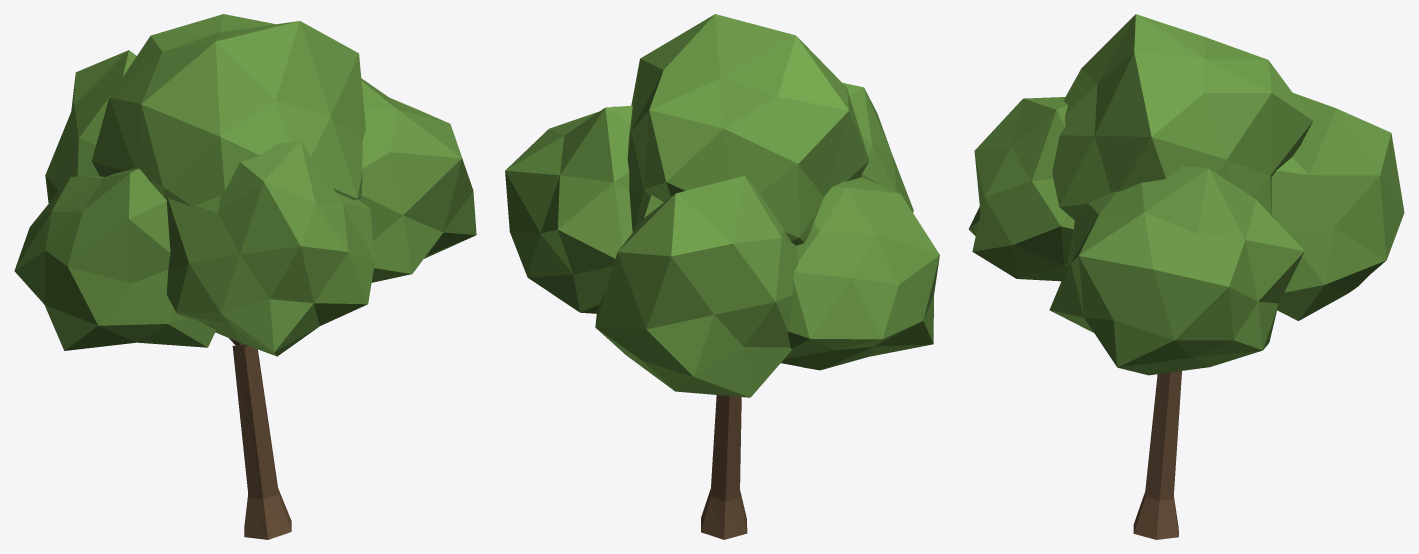
The model's file is broadleaf_b.glb.
3 views of the same model, side by side, from view 1: azimuth 30°, elevation 25°; view 2: azimuth 150°, elevation 25°; view 3: azimuth 270°, elevation 25° (orthographic). The views are drawn at different scales.
Visible parts, largest first — view 1: broadleaf; view 2: broadleaf; view 3: broadleaf.
Boxes of the visible parts, x1=… form: broadleaf: x1=14, y1=14, x2=476, y2=539; broadleaf: x1=505, y1=14, x2=939, y2=539; broadleaf: x1=968, y1=14, x2=1404, y2=539.
Size of the model in its own units: 8.3 by 9.93 by 7.99.
